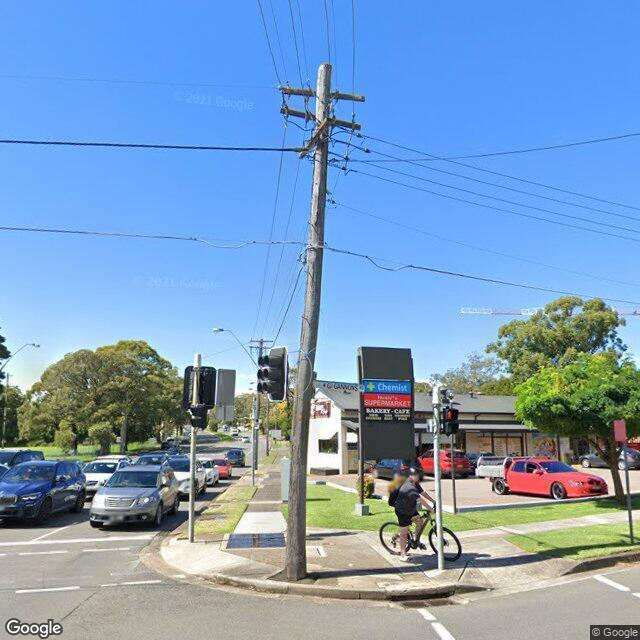crossarm: (280, 104, 362, 132), (278, 79, 366, 104), (297, 116, 331, 160), (248, 346, 271, 349), (250, 340, 274, 342)
steel-pole: (187, 354, 202, 542), (433, 386, 445, 571), (448, 392, 458, 515)
streetlight: (211, 328, 259, 370), (0, 344, 40, 372)
timber-pole: (285, 64, 332, 580), (257, 339, 264, 418)
traffic-light: (258, 347, 288, 402), (184, 364, 217, 412), (189, 403, 210, 432), (443, 406, 462, 436)
